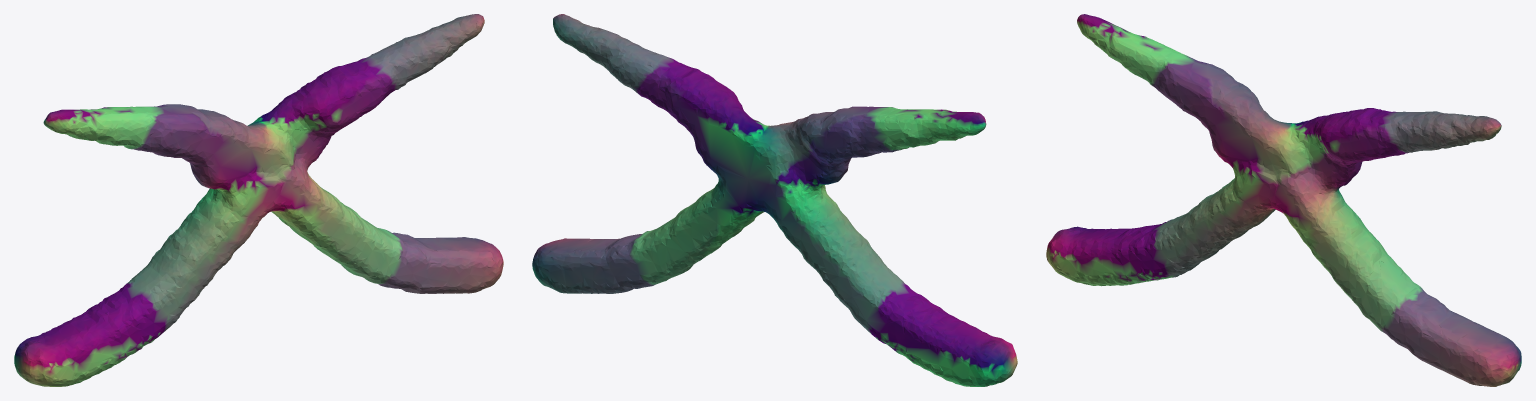
Rendered from pliers-15.off.obj.
The picture shows the model from 3 angles, left to right: view 1: azimuth 30°, elevation 25°; view 2: azimuth 150°, elevation 25°; view 3: azimuth 330°, elevation 25°; orthographic projection. The views are drawn at different scales.
Bounding box in the file's own units: 1.66 × 0.9151 × 0.1811.
